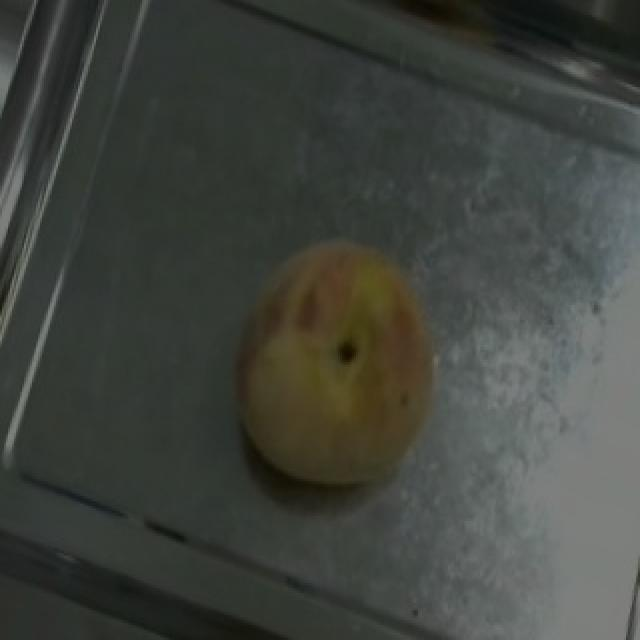Fruit: (182, 198, 494, 534)
